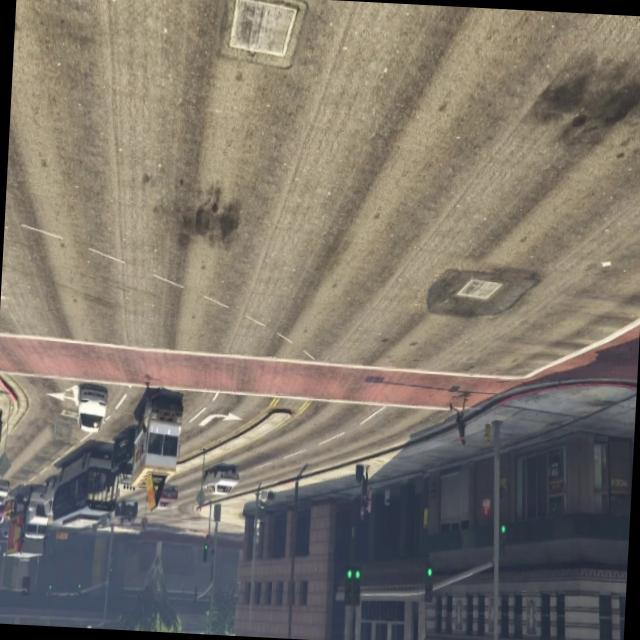Green-Signal: (334, 546, 372, 626), (487, 502, 516, 572), (417, 544, 443, 618)
